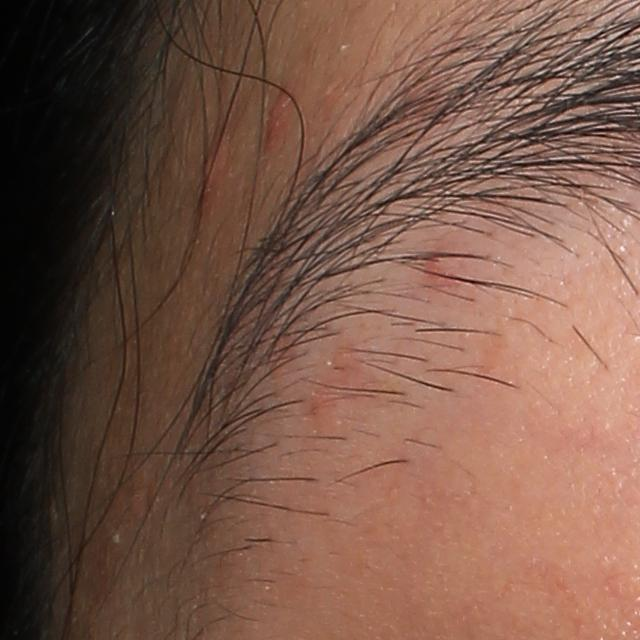papule: (194, 126, 229, 198), (262, 84, 296, 156)
